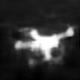plane: (14, 26, 80, 67)
